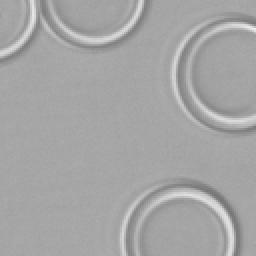picoshell: (170, 20, 254, 130), (118, 184, 236, 254), (42, 0, 144, 44)
